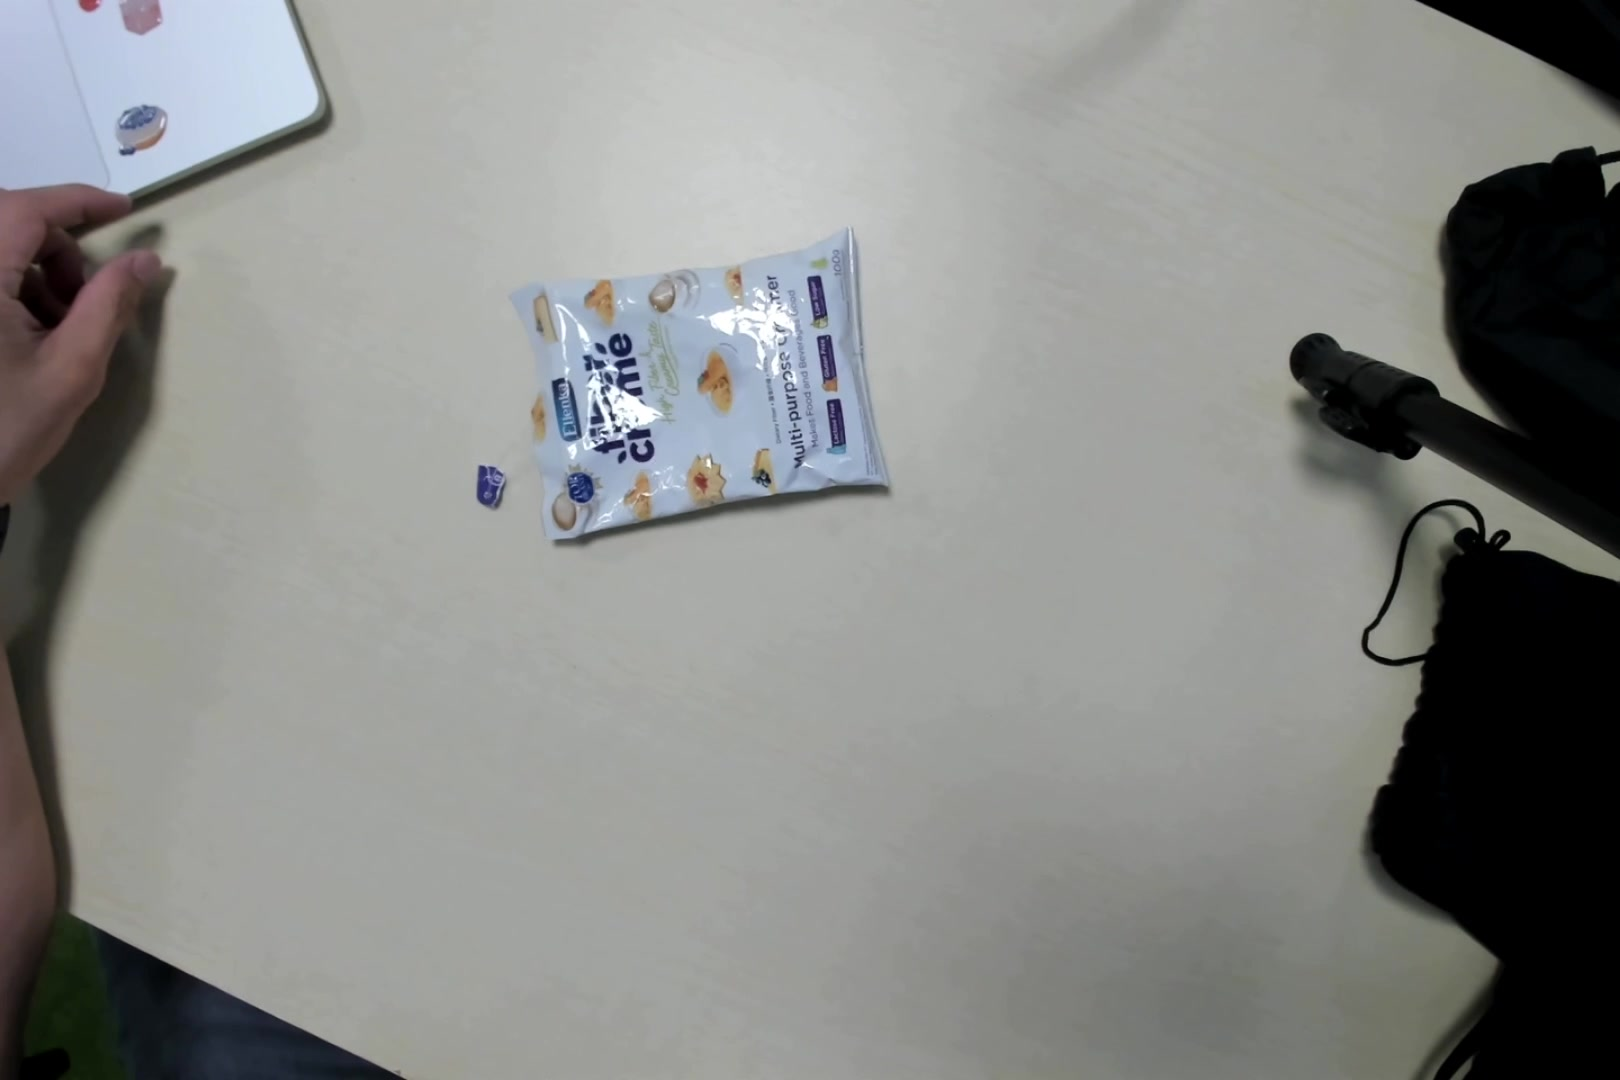OtherBakingNeeds_100-199g_Halal_NonHealthy: (501, 234, 903, 558)
